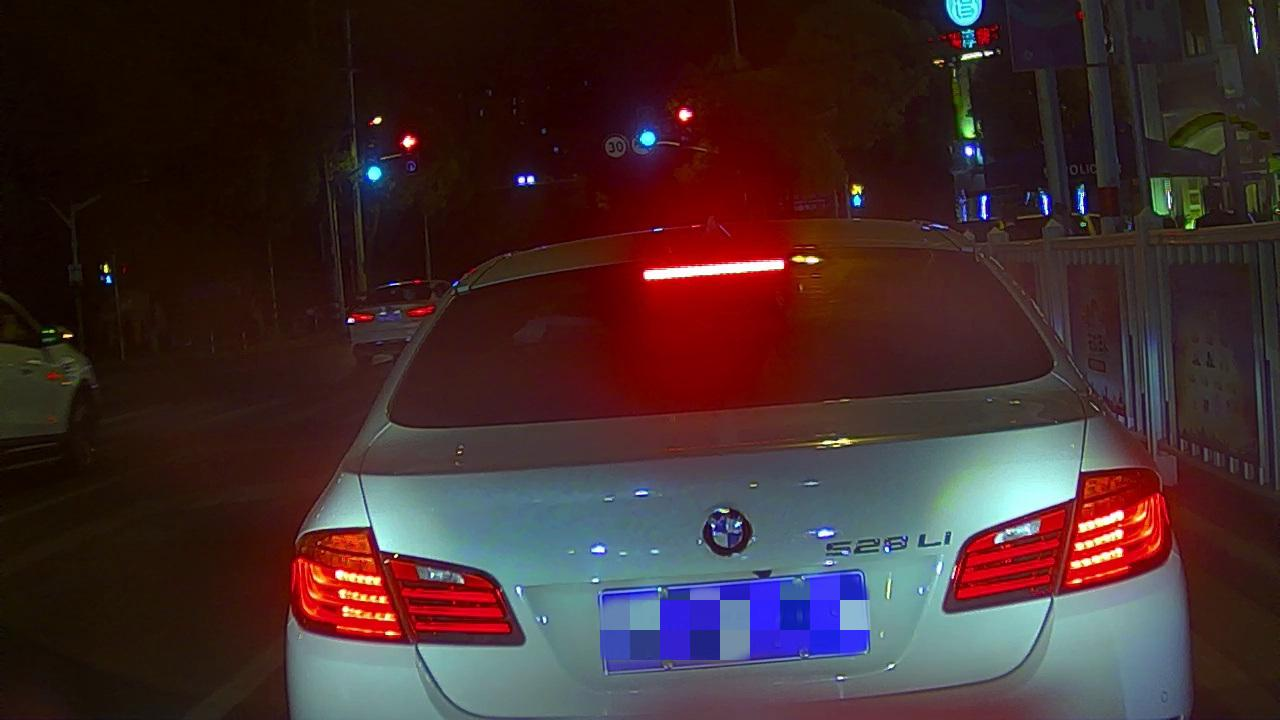traffic_light: (363, 159, 386, 185), (635, 127, 659, 151), (399, 128, 420, 153), (673, 104, 695, 124)
